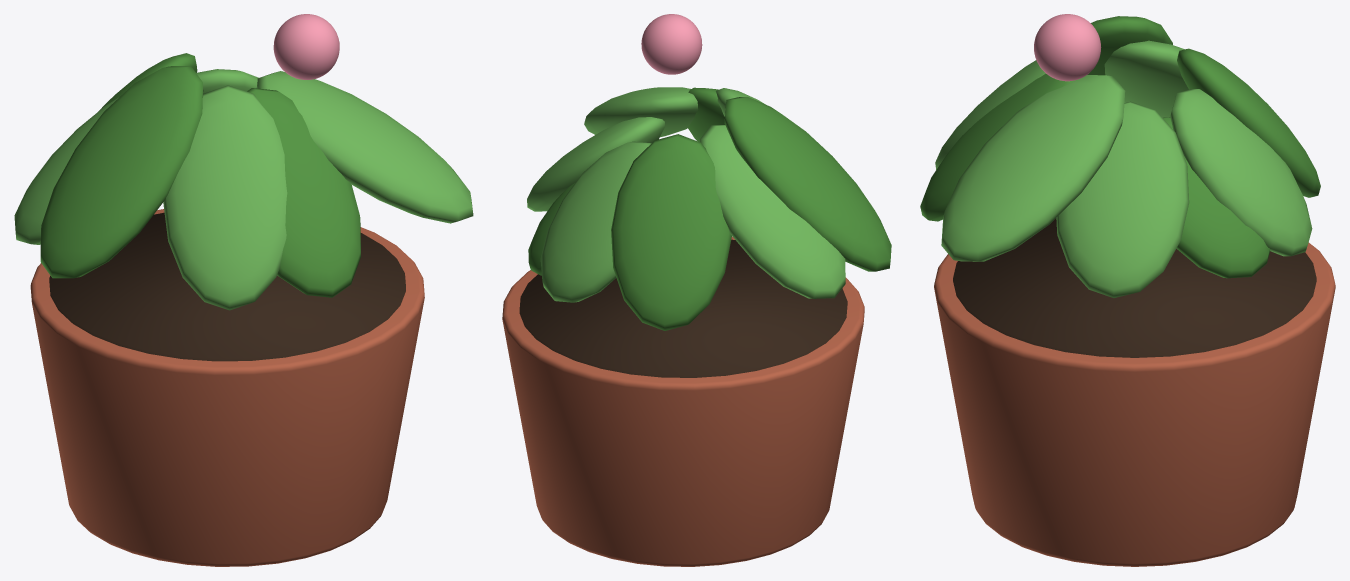
The model's file is plant.glb.
3 views of the same model, side by side, from view 1: azimuth 30°, elevation 25°; view 2: azimuth 150°, elevation 25°; view 3: azimuth 270°, elevation 25° (orthographic). The views are drawn at different scales.
Visible parts, largest first — view 1: pot.001, soil.001, leaf.015, leaf.014, leaf.017, leaf.016, flower.001, leaf.013, leaf.011, leaf.012; view 2: pot.001, soil.001, leaf.012, leaf.014, leaf.013, leaf.011, leaf.009, leaf.017, flower.001, leaf.016, leaf.010; view 3: pot.001, soil.001, leaf.017, leaf.009, leaf.011, leaf.012, leaf.010, leaf.016, leaf.013, flower.001, leaf.014, leaf.015.
Boxes of the visible parts, box(x1,y1,x2,y2) form: pot.001: box(30, 209, 424, 566); soil.001: box(49, 212, 405, 361); leaf.015: box(163, 85, 287, 310); leaf.014: box(40, 66, 203, 278); leaf.017: box(257, 71, 473, 223); leaf.016: box(247, 88, 360, 297); flower.001: box(273, 14, 339, 79); leaf.013: box(14, 97, 118, 244); leaf.011: box(196, 69, 258, 93); leaf.012: box(98, 53, 197, 111); pot.001: box(502, 236, 864, 566); soil.001: box(519, 239, 847, 377); leaf.012: box(611, 134, 731, 330); leaf.014: box(724, 97, 891, 271); leaf.013: box(700, 125, 845, 298); leaf.011: box(540, 141, 651, 302); leaf.009: box(527, 117, 665, 211); leaf.017: box(584, 87, 698, 137); flower.001: box(641, 14, 702, 74); leaf.016: box(687, 87, 724, 141); leaf.010: box(528, 183, 574, 275); pot.001: box(934, 242, 1335, 566); soil.001: box(953, 218, 1316, 357); leaf.017: box(941, 75, 1125, 261); leaf.009: box(1056, 101, 1189, 297); leaf.011: box(1170, 89, 1312, 256); leaf.012: box(1177, 48, 1320, 197); leaf.010: box(1163, 117, 1269, 278); leaf.016: box(920, 73, 1074, 221); leaf.013: box(1104, 40, 1188, 117); flower.001: box(1034, 14, 1101, 81); leaf.014: box(1087, 16, 1172, 75); leaf.015: box(935, 60, 1045, 169).
Bounding box in the file's own units: 0.6488 × 0.83 × 0.6171.
